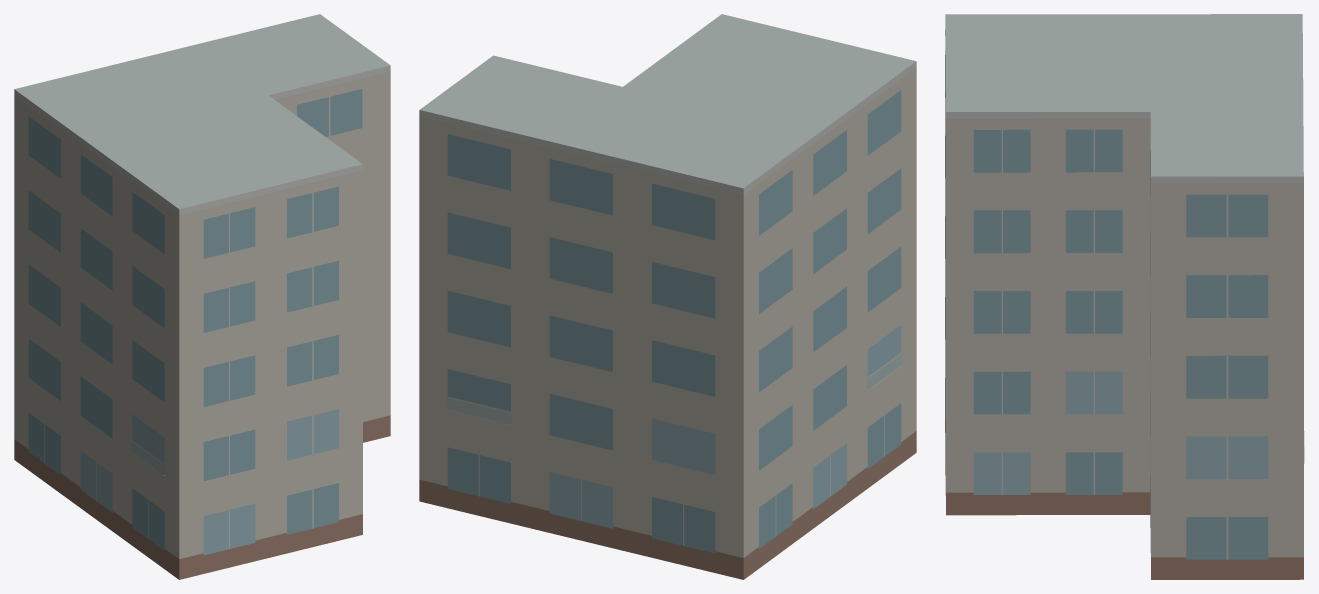
The model's file is survey-upis-32679541.glb.
The picture shows the model from 3 angles, left to right: view 1: azimuth 30°, elevation 25°; view 2: azimuth 150°, elevation 25°; view 3: azimuth 270°, elevation 25°; orthographic projection. The views are drawn at different scales.
Parts seen in each view (by area): view 1: survey-upis-32679541.tmp; view 2: survey-upis-32679541.tmp; view 3: survey-upis-32679541.tmp.
Boxes of the visible parts, x1,y1,x2,y2 form: survey-upis-32679541.tmp: (14,14,390,579); survey-upis-32679541.tmp: (419,14,916,579); survey-upis-32679541.tmp: (945,14,1304,579).
Size of the model in its own units: 13.01 by 15 by 12.14.
